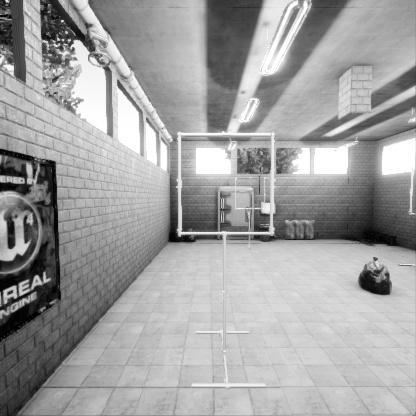gate: (179, 185, 279, 285), (235, 208, 267, 239)
